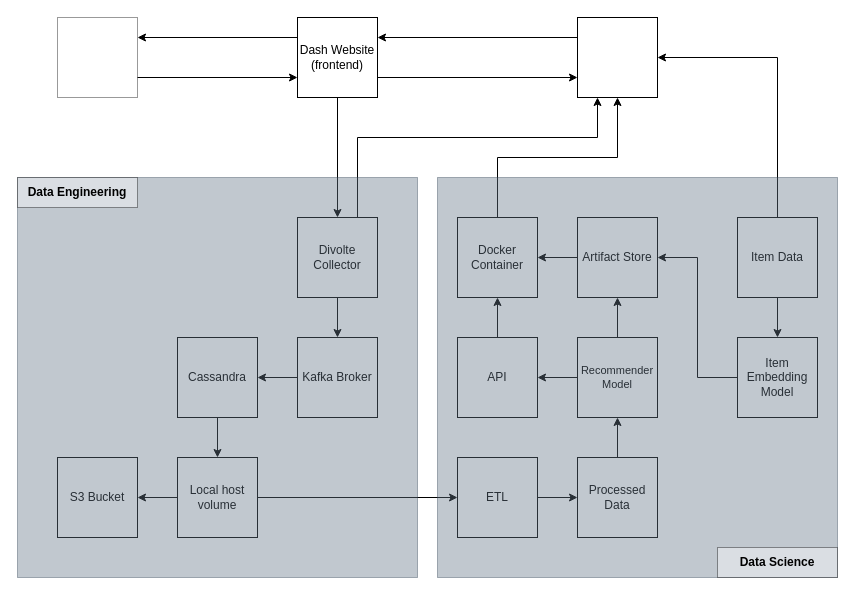
Some shapes in this 855 by 595 pixel diagram are drawn without their labels. Each missing label, with the centre of its shape:
"Dash App (backend)" goes at [617,57].
"Users" goes at [97,57].
